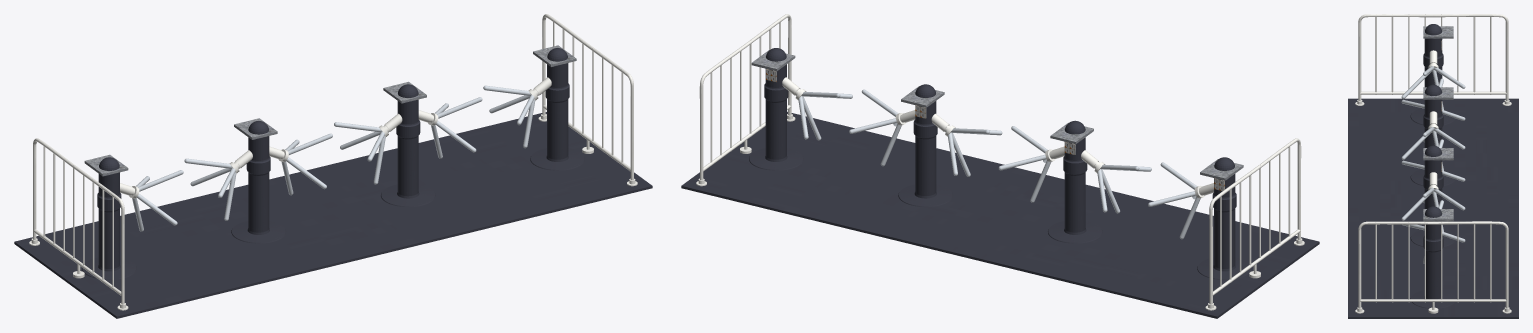
Rendered from Other_Tripod_Turnstile__0140.glb.
3 views of the same model, side by side, from view 1: azimuth 30°, elevation 25°; view 2: azimuth 150°, elevation 25°; view 3: azimuth 270°, elevation 25° (orthographic). The views are drawn at different scales.
Visible parts, largest first — view 1: cabinet::base_plate, cabinet::post_body_+2.20, cabinet::post_body_-0.73, cabinet::post_body_+0.73, cabinet::post_body_-2.20, side_railing_0::frame, side_railing_1::frame; view 2: cabinet::base_plate, cabinet::post_body_+2.20, cabinet::post_body_-0.73, cabinet::post_body_+0.73, cabinet::post_body_-2.20, side_railing_0::frame, side_railing_1::frame; view 3: cabinet::base_plate, cabinet::post_body_+2.20, side_railing_1::frame, side_railing_0::frame, cabinet::post_body_-2.20, cabinet::post_body_+0.73, cabinet::post_body_-0.73, side_railing_1::bottom_rail, side_railing_0::bottom_rail, cabinet::granite_top_+2.20, cabinet::granite_top_+0.73, cabinet::granite_top_-0.73 (+25 smaller).
Boxes of the visible parts, x1,y1,x2,y2 form: cabinet::base_plate: (14,112,652,318); cabinet::post_body_+2.20: (530,63,584,170); cabinet::post_body_-0.73: (231,136,286,243); cabinet::post_body_+0.73: (381,99,435,206); cabinet::post_body_-2.20: (82,172,136,279); side_railing_0::frame: (33,138,124,304); side_railing_1::frame: (542,14,633,180); cabinet::base_plate: (681,111,1319,318); cabinet::post_body_+2.20: (749,64,803,170); cabinet::post_body_-0.73: (1048,137,1102,243); cabinet::post_body_+0.73: (898,101,952,206); cabinet::post_body_-2.20: (1197,174,1251,279); side_railing_0::frame: (1209,138,1301,304); side_railing_1::frame: (699,14,791,180); cabinet::base_plate: (1348,98,1518,318); cabinet::post_body_+2.20: (1410,221,1456,308); side_railing_1::frame: (1358,221,1508,308); side_railing_0::frame: (1358,14,1508,100); cabinet::post_body_-2.20: (1410,38,1455,124); cabinet::post_body_+0.73: (1410,160,1455,246); cabinet::post_body_-0.73: (1410,99,1455,185); side_railing_1::bottom_rail: (1360,299,1506,301); side_railing_0::bottom_rail: (1360,91,1506,94); cabinet::granite_top_+2.20: (1423,209,1453,221); cabinet::granite_top_+0.73: (1423,148,1453,160); cabinet::granite_top_-0.73: (1423,87,1453,99).
Bounding box in the file's own units: 5.26 × 1.05 × 1.74.
Materials: 6 (5 with a texture image).
